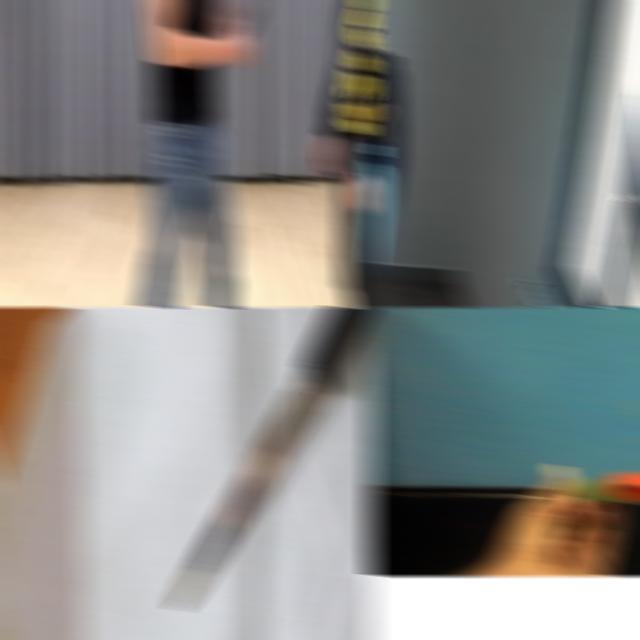Knife: (562, 472, 640, 505)
Knife_Handle: (211, 0, 261, 67)
